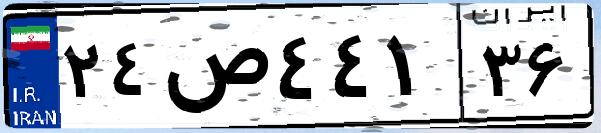1: (385, 28, 445, 110)
2: (57, 26, 110, 100)
3: (475, 38, 525, 113)
4: (270, 28, 330, 110), (330, 28, 385, 110), (110, 28, 158, 98)
6: (525, 38, 570, 115)
ص: (158, 20, 270, 120)
